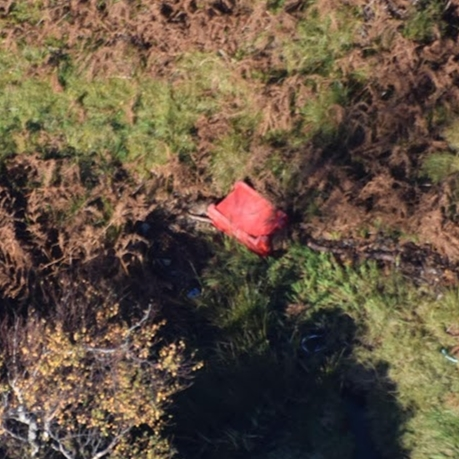cuboid: (200, 175, 296, 262)
white_in_green: (170, 269, 221, 316)
